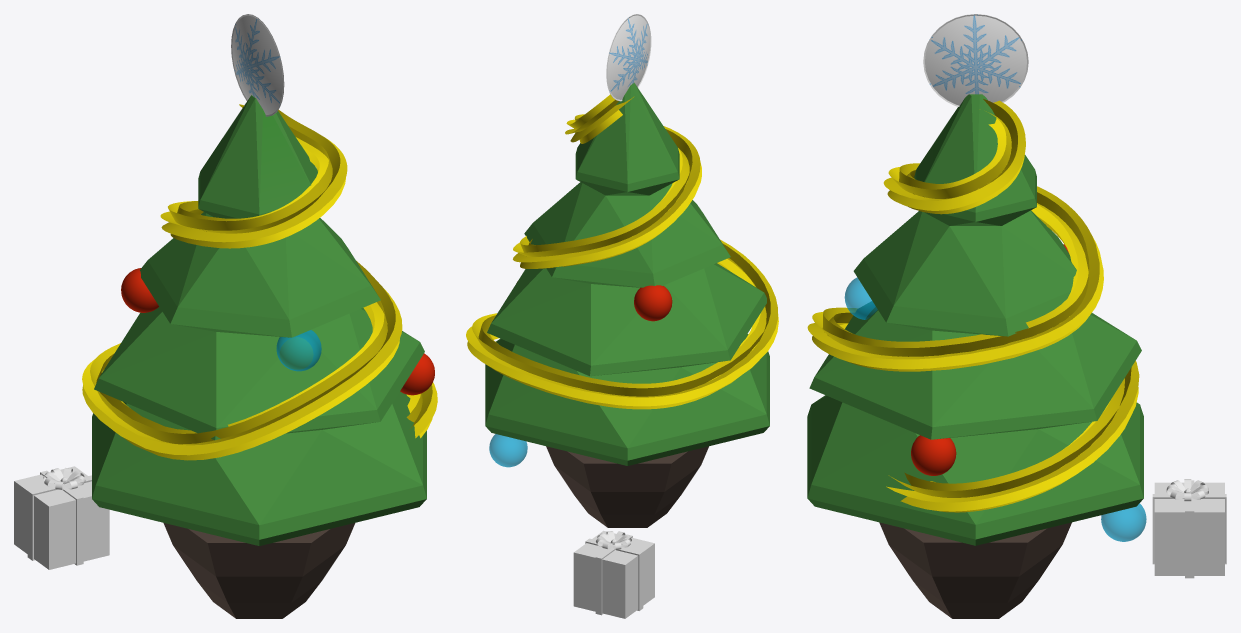
File: 1_3_Tree.dae
3 views of the same model, side by side, from view 1: azimuth 30°, elevation 25°; view 2: azimuth 150°, elevation 25°; view 3: azimuth 270°, elevation 25° (orthographic). The views are drawn at different scales.
Parts seen in each view (by area): view 1: Cylinder, NurbsPath, Cube, Cone, Bauble2, Bauble3, Bauble1, GiftRibbon; view 2: Cylinder, NurbsPath, Cube, Cone, Bauble3, Bauble4, GiftRibbon; view 3: Cylinder, NurbsPath, Cone, Cube, Bauble1, Bauble4, Bauble2, GiftRibbon.
Part boxes in pixels (x1,y1,x2,y2): Cylinder: [92, 95, 426, 618]; NurbsPath: [82, 104, 437, 460]; Cube: [14, 466, 109, 569]; Cone: [231, 14, 284, 116]; Bauble2: [276, 330, 321, 371]; Bauble3: [121, 268, 158, 312]; Bauble1: [400, 353, 434, 395]; GiftRibbon: [43, 468, 85, 489]; Cylinder: [485, 82, 769, 527]; NurbsPath: [466, 94, 778, 409]; Cube: [573, 530, 654, 618]; Cone: [606, 14, 651, 101]; Bauble3: [634, 285, 672, 321]; Bauble4: [489, 434, 527, 467]; GiftRibbon: [596, 531, 631, 549]; Cylinder: [807, 94, 1143, 618]; NurbsPath: [807, 99, 1139, 512]; Cone: [923, 14, 1028, 106]; Cube: [1152, 480, 1226, 578]; Bauble1: [911, 435, 956, 475]; Bauble4: [1101, 503, 1146, 541]; Bauble2: [844, 277, 877, 319]; GiftRibbon: [1166, 479, 1208, 501].
Bounding box in the file's own units: 11.16 × 11.92 × 18.59.
5 materials, 1 textured.
